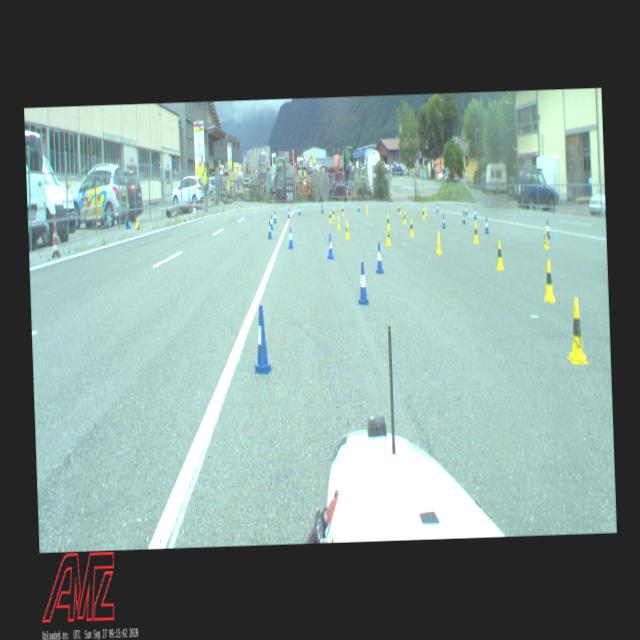blue_cone: (251, 306, 272, 374), (357, 262, 368, 304), (374, 242, 384, 274), (326, 232, 334, 258), (287, 226, 293, 249), (267, 220, 272, 239), (484, 216, 489, 234), (546, 220, 550, 239), (441, 213, 445, 228), (462, 211, 466, 224), (270, 214, 273, 230), (273, 210, 276, 223), (464, 204, 467, 215), (356, 202, 359, 212), (288, 207, 290, 218), (474, 208, 476, 218), (436, 202, 438, 212), (298, 205, 300, 215), (320, 203, 322, 213)
yellow_cone: (564, 296, 588, 364), (542, 259, 555, 302), (495, 239, 504, 270), (434, 230, 442, 254), (542, 226, 548, 248), (472, 222, 478, 243), (385, 226, 391, 246), (344, 220, 350, 238), (409, 218, 414, 236), (386, 213, 390, 229), (336, 214, 340, 230), (402, 210, 406, 224), (328, 210, 332, 223), (424, 206, 427, 217), (341, 205, 344, 215), (398, 204, 401, 214), (332, 208, 335, 218), (422, 207, 424, 220), (366, 204, 368, 215)
